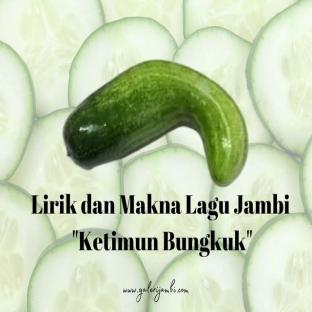Cucumber: (64, 61, 247, 184), (11, 108, 121, 237), (118, 146, 211, 283), (174, 27, 272, 143), (247, 0, 311, 156), (28, 229, 148, 311), (211, 145, 303, 249), (69, 17, 176, 106), (0, 182, 55, 311), (243, 214, 311, 311), (148, 251, 244, 311), (0, 42, 34, 180), (300, 138, 311, 221)
